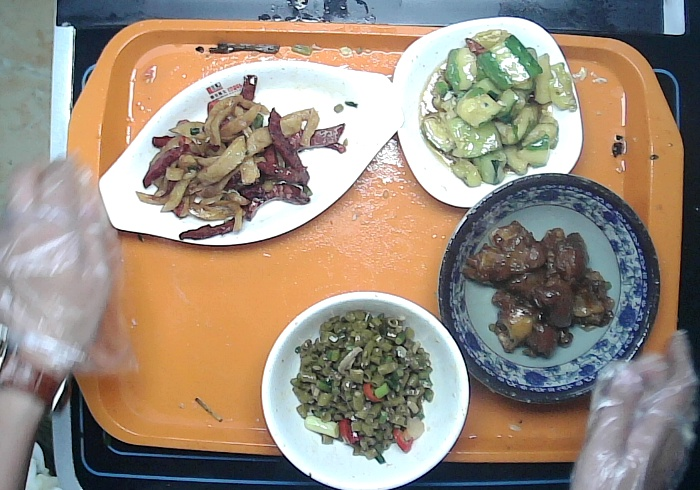ZNLD-Qing_Hua_Wan: (435, 170, 665, 416)
ZNLD-Si_Fang_Wan: (391, 14, 584, 212)
ZNLD-Tang_Wan: (260, 289, 472, 490)
ZNLD-Yu_Pan: (95, 56, 404, 245)
